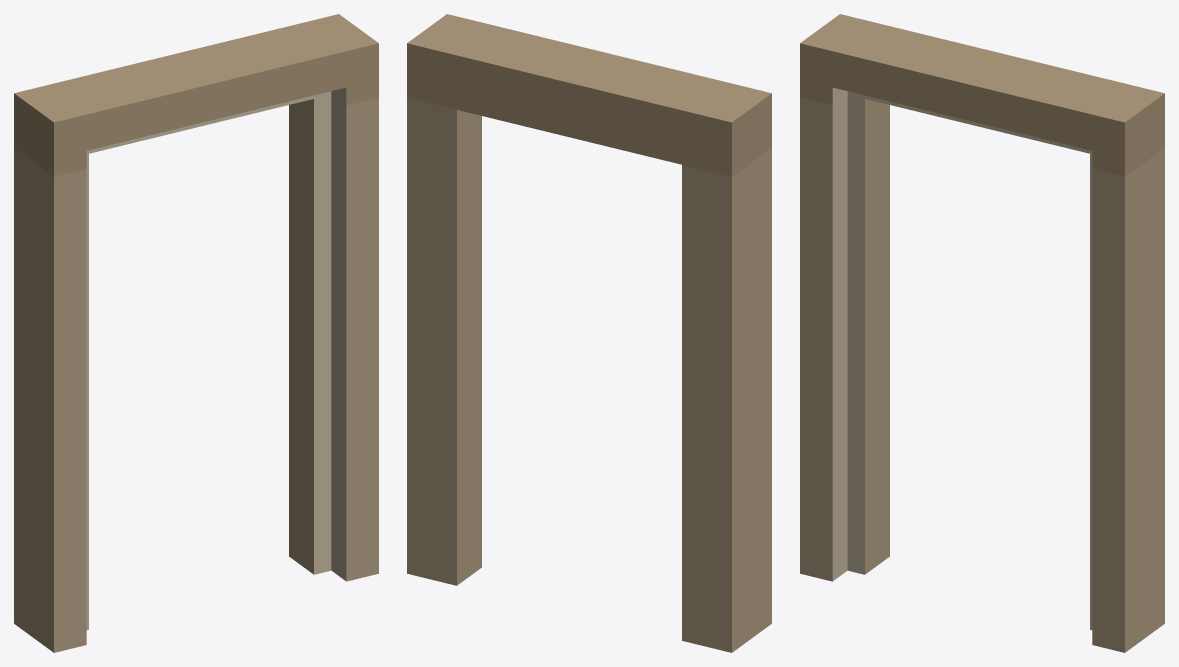
The picture shows the model from 3 angles, left to right: view 1: azimuth 30°, elevation 25°; view 2: azimuth 150°, elevation 25°; view 3: azimuth 330°, elevation 25°; orthographic projection.
Visible parts, largest first — view 1: RightContinuousRebatedStoneJamb, LeftContinuousRebatedStoneJamb, ContinuousRebatedStoneHeader; view 2: LeftContinuousRebatedStoneJamb, RightContinuousRebatedStoneJamb, ContinuousRebatedStoneHeader; view 3: LeftContinuousRebatedStoneJamb, RightContinuousRebatedStoneJamb, ContinuousRebatedStoneHeader.
Boxes of the visible parts, x1,y1,x2,y2 form: RightContinuousRebatedStoneJamb: (289,94,378,581); LeftContinuousRebatedStoneJamb: (14,148,88,652); ContinuousRebatedStoneHeader: (14,14,378,176); LeftContinuousRebatedStoneJamb: (682,148,771,652); RightContinuousRebatedStoneJamb: (407,97,481,585); ContinuousRebatedStoneHeader: (407,14,771,176); LeftContinuousRebatedStoneJamb: (800,94,889,581); RightContinuousRebatedStoneJamb: (1090,148,1164,652); ContinuousRebatedStoneHeader: (800,14,1164,176).
Bounding box in the file's own units: 1.5 × 2.34 × 0.32.
